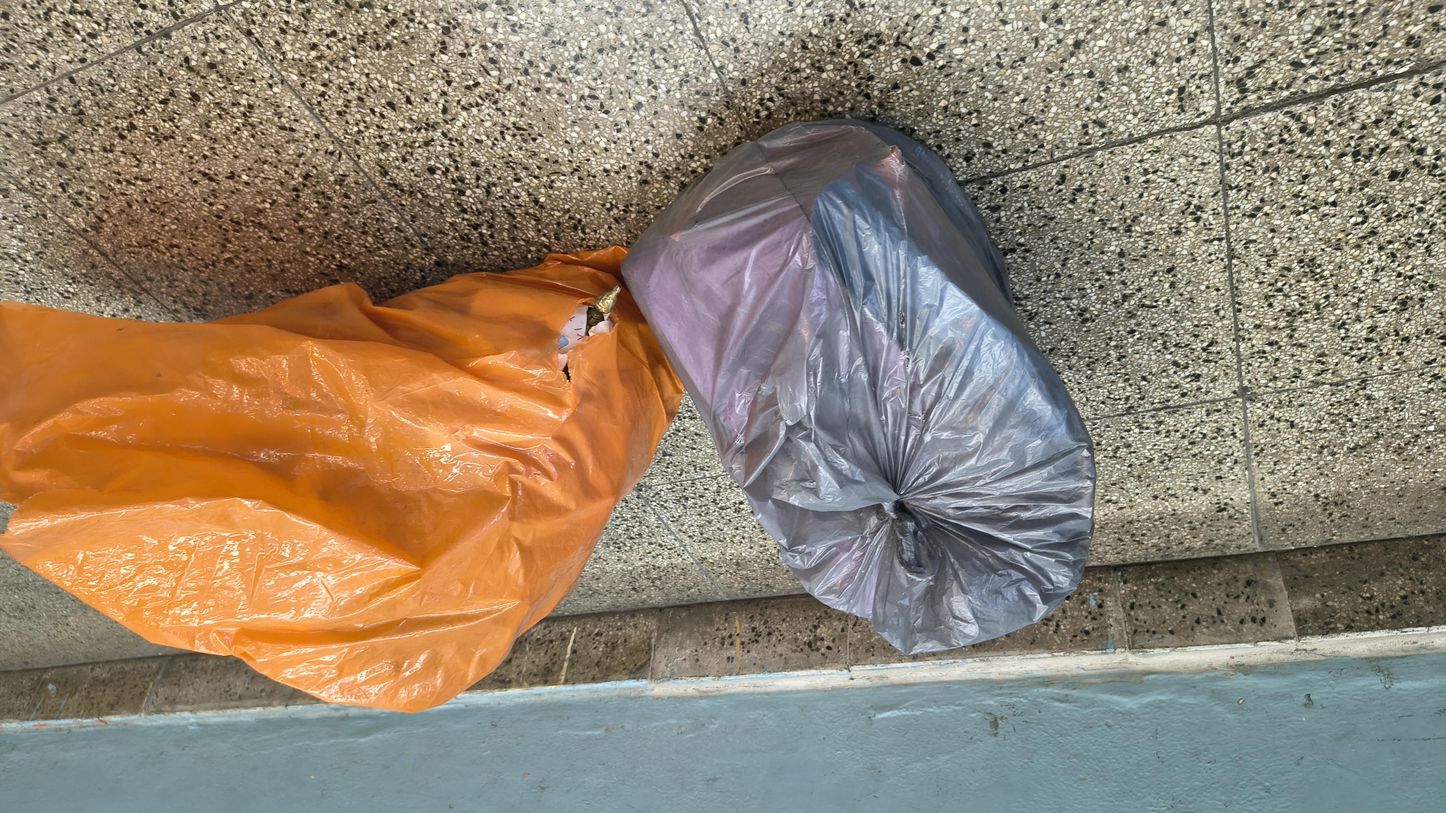Garbage: (741, 72, 1446, 663), (314, 141, 824, 700)
